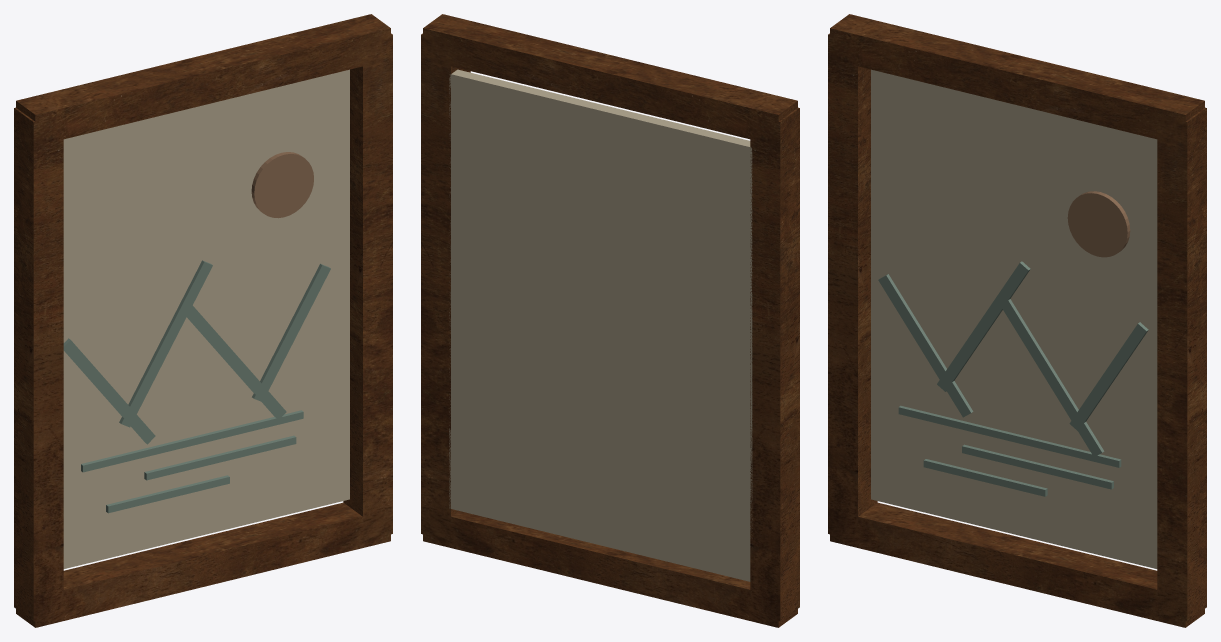
Rendered from office-embroidery.glb.
3 renders of one model, left to right at view 1: azimuth 30°, elevation 25°; view 2: azimuth 150°, elevation 25°; view 3: azimuth 330°, elevation 25°, orthographic.
Parts seen in each view (by area): view 1: 刺绣布面, 木框竖边, 木框竖边.001, 木框横边.001, 木框横边, 刺绣落日, 山形刺绣.001, 水线刺绣, 山形刺绣.003, 山形刺绣.002, 山形刺绣, 水线刺绣.001 (+1 smaller); view 2: 刺绣布面, 木框竖边, 木框横边.001, 木框竖边.001, 木框横边; view 3: 刺绣布面, 木框竖边.001, 木框竖边, 木框横边.001, 木框横边, 刺绣落日, 山形刺绣.002, 水线刺绣, 山形刺绣, 山形刺绣.001, 山形刺绣.003, 水线刺绣.001 (+1 smaller).
Part boxes in pixels (x1,y1,x2,y2): 刺绣布面: [63, 69, 349, 568]; 木框竖边: [14, 107, 63, 621]; 木框竖边.001: [343, 33, 392, 540]; 木框横边.001: [16, 14, 390, 145]; 木框横边: [16, 502, 390, 627]; 刺绣落日: [251, 152, 313, 218]; 山形刺绣.001: [119, 260, 212, 427]; 水线刺绣: [81, 410, 303, 472]; 山形刺绣.003: [252, 263, 330, 401]; 山形刺绣.002: [182, 303, 286, 419]; 山形刺绣: [63, 338, 155, 444]; 水线刺绣.001: [144, 435, 296, 480]; 刺绣布面: [449, 69, 752, 581]; 木框竖边: [750, 107, 799, 621]; 木框横边.001: [423, 14, 797, 145]; 木框竖边.001: [421, 33, 470, 540]; 木框横边: [423, 510, 797, 627]; 刺绣布面: [871, 69, 1157, 568]; 木框竖边.001: [1157, 107, 1206, 621]; 木框竖边: [828, 33, 877, 540]; 木框横边.001: [830, 14, 1204, 145]; 木框横边: [830, 502, 1204, 627]; 刺绣落日: [1067, 191, 1130, 257]; 山形刺绣.002: [998, 297, 1104, 457]; 水线刺绣: [898, 405, 1121, 467]; 山形刺绣: [878, 274, 973, 417]; 山形刺绣.001: [937, 261, 1030, 391]; 山形刺绣.003: [1069, 322, 1148, 431]; 水线刺绣.001: [962, 444, 1113, 489].
Bounding box in the file's own units: 1.92 × 2.62 × 0.18.
4 materials, 1 textured.
